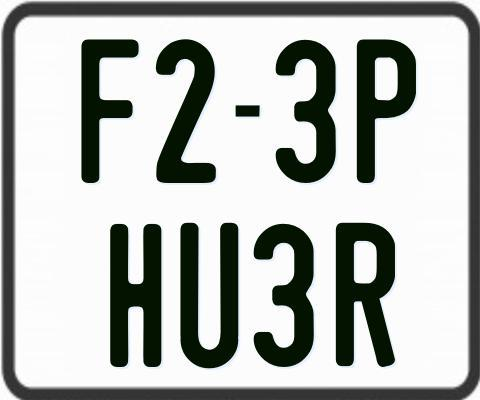2: (153, 39, 219, 187)
3: (276, 39, 342, 183), (252, 223, 317, 369)
F: (79, 38, 141, 184)
H: (108, 223, 161, 369)
P: (354, 39, 419, 188)
R: (334, 221, 395, 368)
U: (178, 221, 236, 372)
